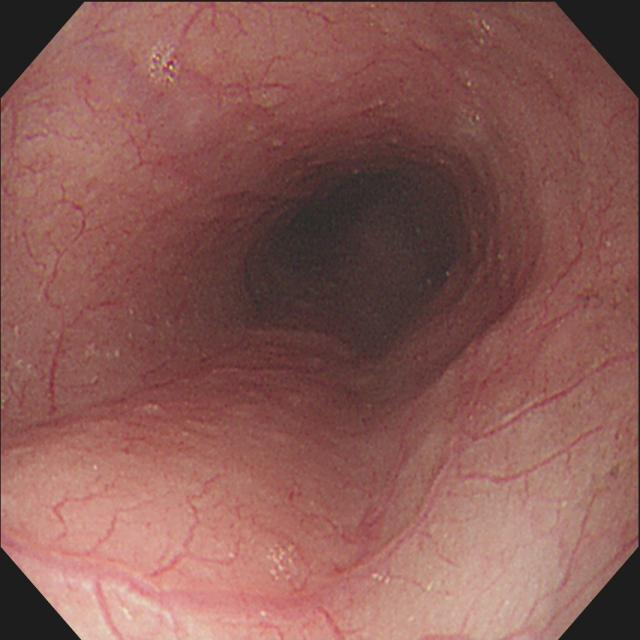E: (250, 160, 463, 355)
T: (144, 45, 184, 89)
